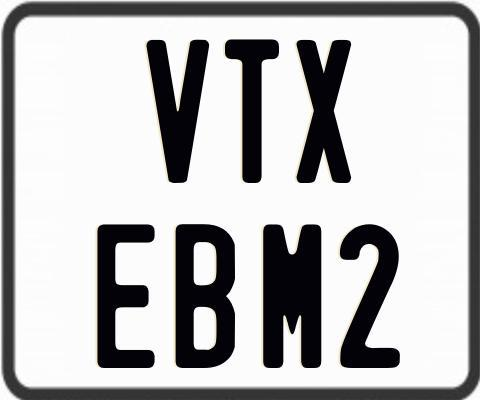2: (337, 222, 399, 370)
B: (176, 224, 240, 371)
E: (94, 223, 153, 373)
M: (260, 222, 323, 371)
T: (224, 39, 279, 189)
V: (144, 39, 208, 188)
X: (294, 38, 349, 184)
